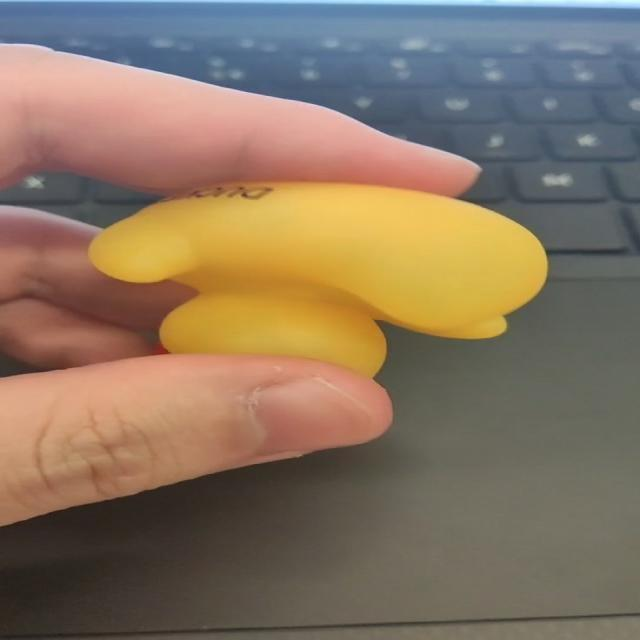rubber-duck: (88, 181, 545, 374)
